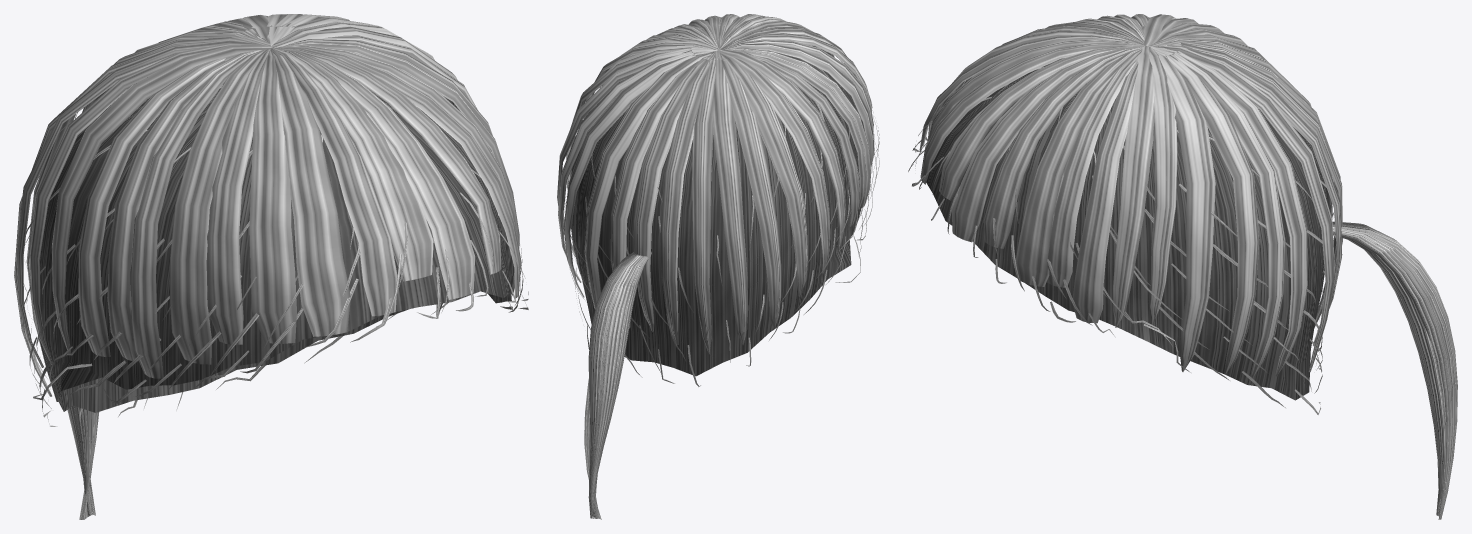
File: unified_m_tail.glb
3 views of the same model, side by side, from view 1: azimuth 30°, elevation 25°; view 2: azimuth 150°, elevation 25°; view 3: azimuth 270°, elevation 25° (orthographic). The views are drawn at different scales.
Visible parts, largest first — view 1: Hair_directional_locks, Hair_scalp, Hair_layered_strands, Hair_tail_strands; view 2: Hair_directional_locks, Hair_scalp, Hair_tail_strands, Hair_layered_strands; view 3: Hair_directional_locks, Hair_scalp, Hair_tail_strands, Hair_layered_strands.
Part boxes in pixels (x1,y1,x2,y2): Hair_directional_locks: (14, 14, 521, 396); Hair_scalp: (37, 81, 511, 412); Hair_layered_strands: (21, 85, 528, 426); Hair_tail_strands: (67, 406, 99, 519); Hair_directional_locks: (557, 14, 874, 354); Hair_scalp: (571, 46, 864, 376); Hair_tail_strands: (584, 252, 651, 519); Hair_layered_strands: (563, 45, 879, 386); Hair_directional_locks: (919, 14, 1342, 377); Hair_scalp: (926, 58, 1328, 400); Hair_tail_strands: (1332, 221, 1457, 519); Hair_layered_strands: (908, 67, 1335, 414).
Bounding box in the file's own units: 0.1017 × 0.1371 × 0.1437.
2 materials, 2 textured.
